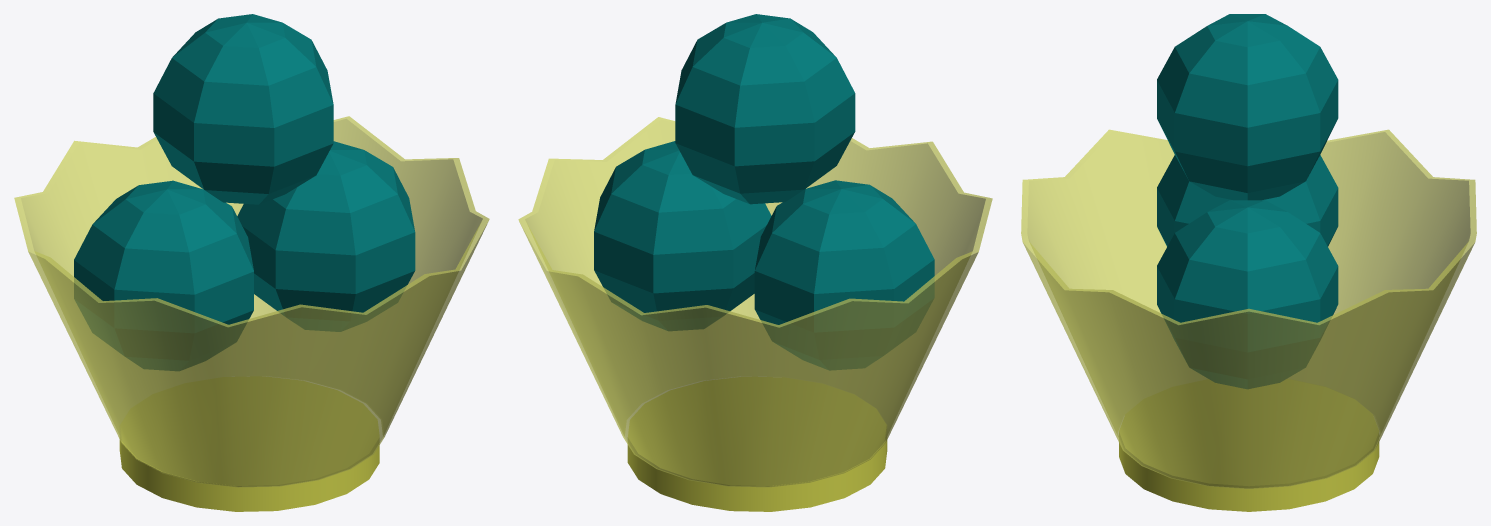
Rendered from Triple_Shot.fbx.
3 views of the same model, side by side, from view 1: azimuth 30°, elevation 25°; view 2: azimuth 150°, elevation 25°; view 3: azimuth 270°, elevation 25° (orthographic).
Visible parts, largest first — view 1: pPipe1, pCylinder1, pSphere3, pSphere1, pSphere2; view 2: pPipe1, pCylinder1, pSphere3, pSphere1, pSphere2; view 3: pPipe1, pCylinder1, pSphere3, pSphere2, pSphere1.
Part boxes in pixels (bbox=[...]): pPipe1: bbox=[14, 116, 489, 487]; pCylinder1: bbox=[119, 376, 379, 511]; pSphere3: bbox=[153, 14, 333, 204]; pSphere1: bbox=[74, 180, 253, 370]; pSphere2: bbox=[237, 141, 415, 331]; pPipe1: bbox=[518, 117, 992, 487]; pCylinder1: bbox=[627, 377, 887, 511]; pSphere3: bbox=[675, 14, 855, 204]; pSphere1: bbox=[754, 180, 934, 370]; pSphere2: bbox=[594, 141, 771, 330]; pPipe1: bbox=[1021, 129, 1476, 488]; pCylinder1: bbox=[1119, 379, 1379, 511]; pSphere3: bbox=[1157, 14, 1338, 200]; pSphere2: bbox=[1157, 200, 1338, 388]; pSphere1: bbox=[1157, 155, 1338, 246].
Bounding box in the file's own units: 7.46 × 7.5 × 7.14.
